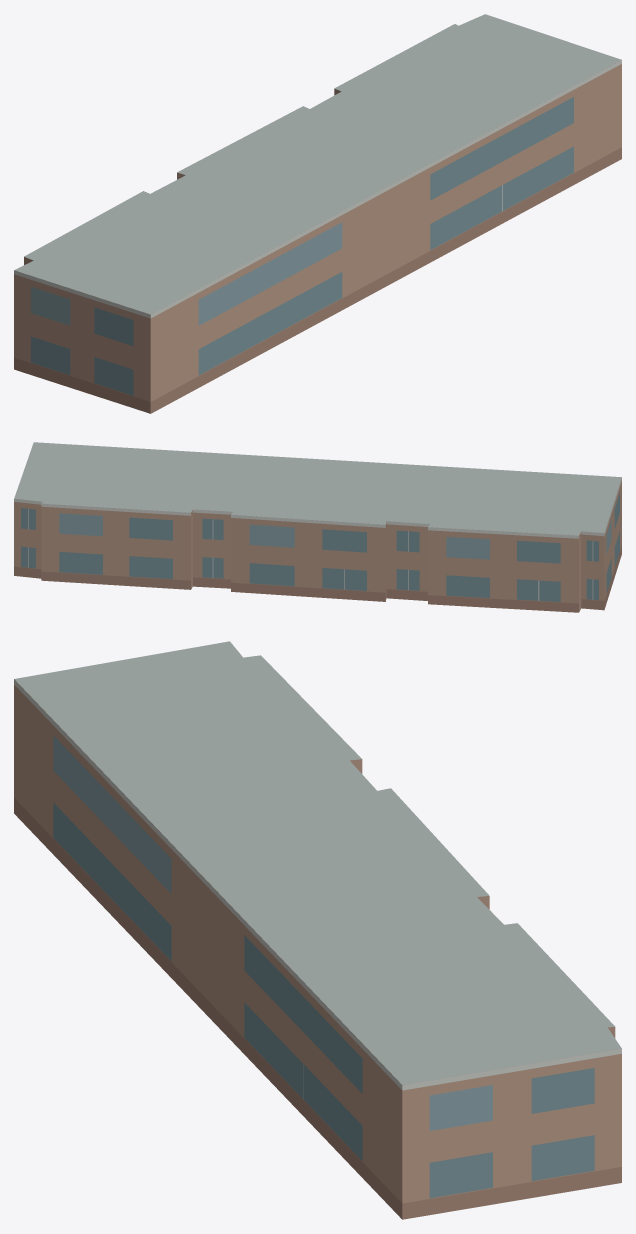
File: survey-upis-32758474.glb
3 renders of one model, top to bottom at view 1: azimuth 30°, elevation 25°; view 2: azimuth 150°, elevation 25°; view 3: azimuth 270°, elevation 25°, orthographic. The views are drawn at different scales.
Visible parts, largest first — view 1: survey-upis-32758474.tmp; view 2: survey-upis-32758474.tmp; view 3: survey-upis-32758474.tmp.
Boxes of the visible parts, bbox=[...] form: survey-upis-32758474.tmp: bbox=[14, 14, 621, 413]; survey-upis-32758474.tmp: bbox=[14, 442, 621, 612]; survey-upis-32758474.tmp: bbox=[14, 641, 621, 1219].
Size of the model in its own units: 43.2 by 6.1 by 24.99.
